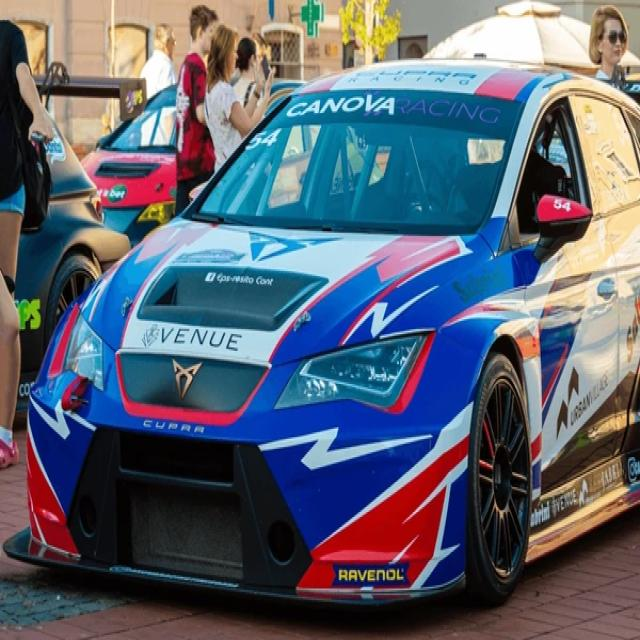cupra: (173, 352, 202, 402)
